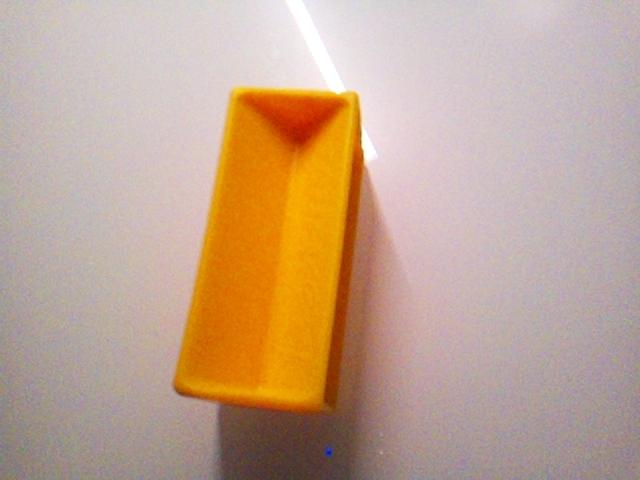yellow: (172, 85, 365, 416)
